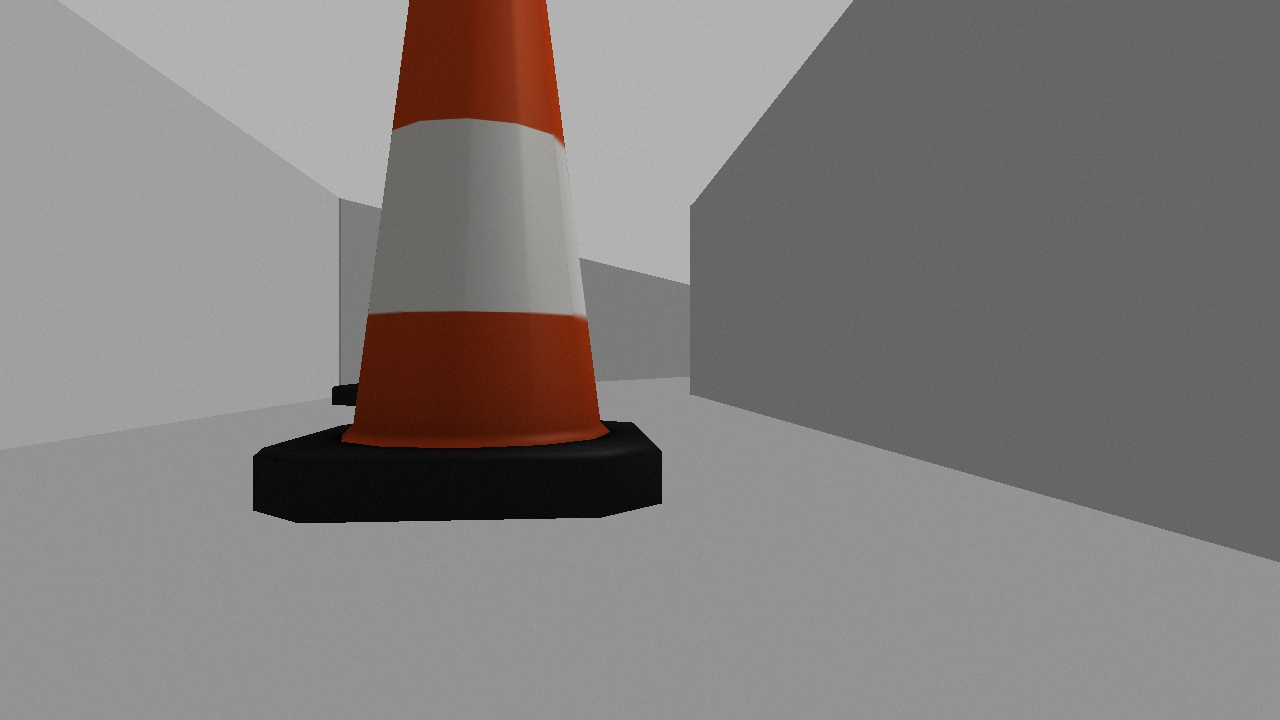barricade: (232, 1, 675, 536)
